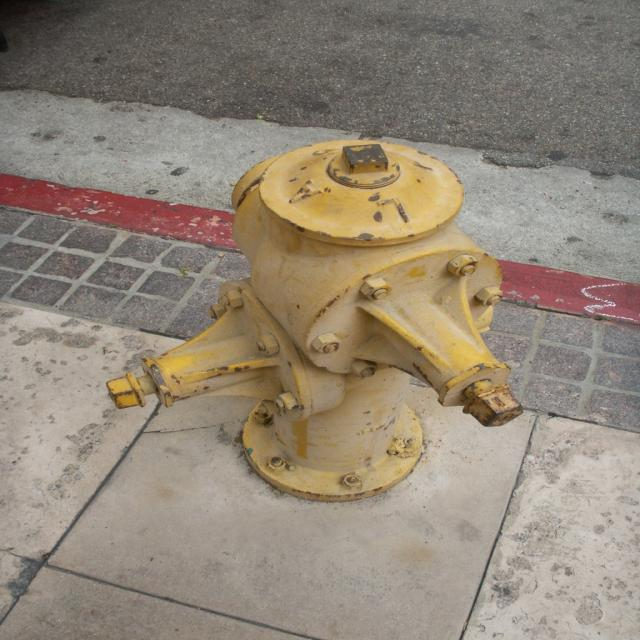fire_hydrant: (109, 140, 524, 502)
